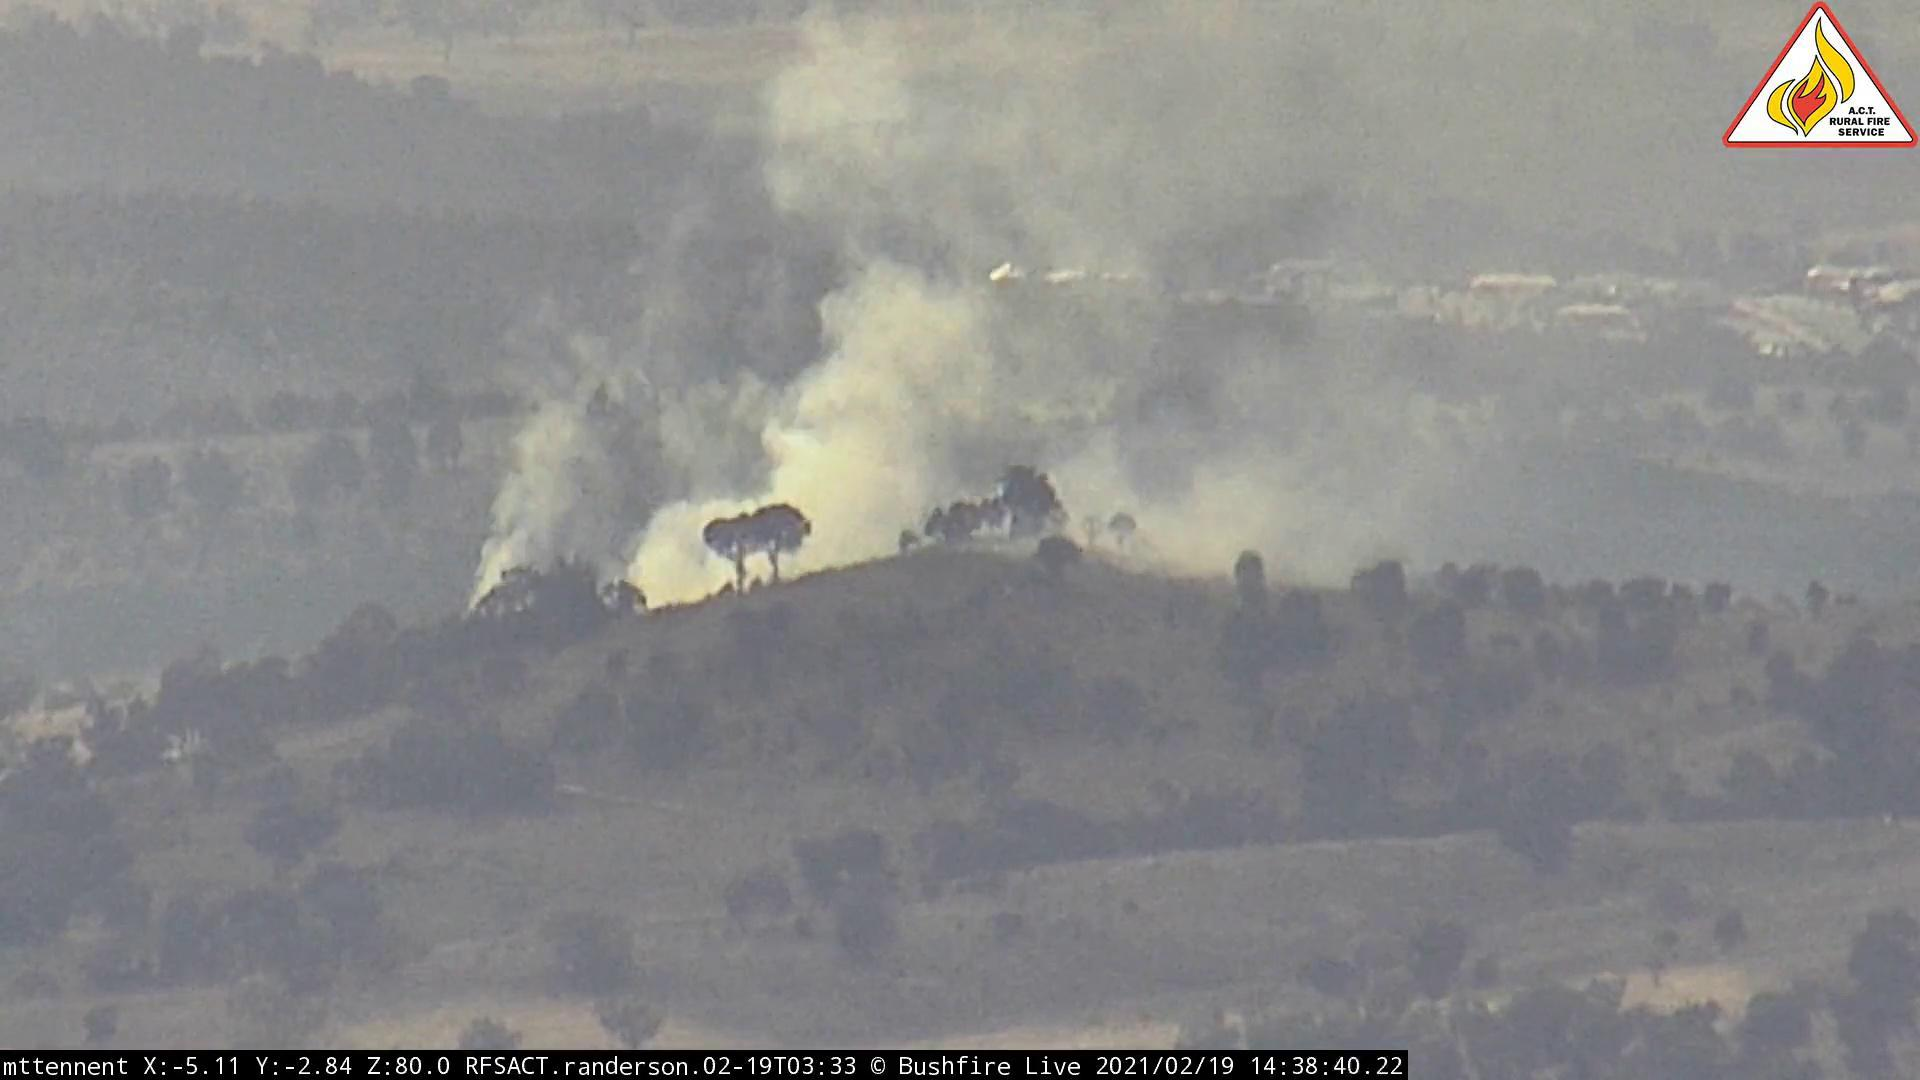Smoke: (524, 3, 1534, 644)
